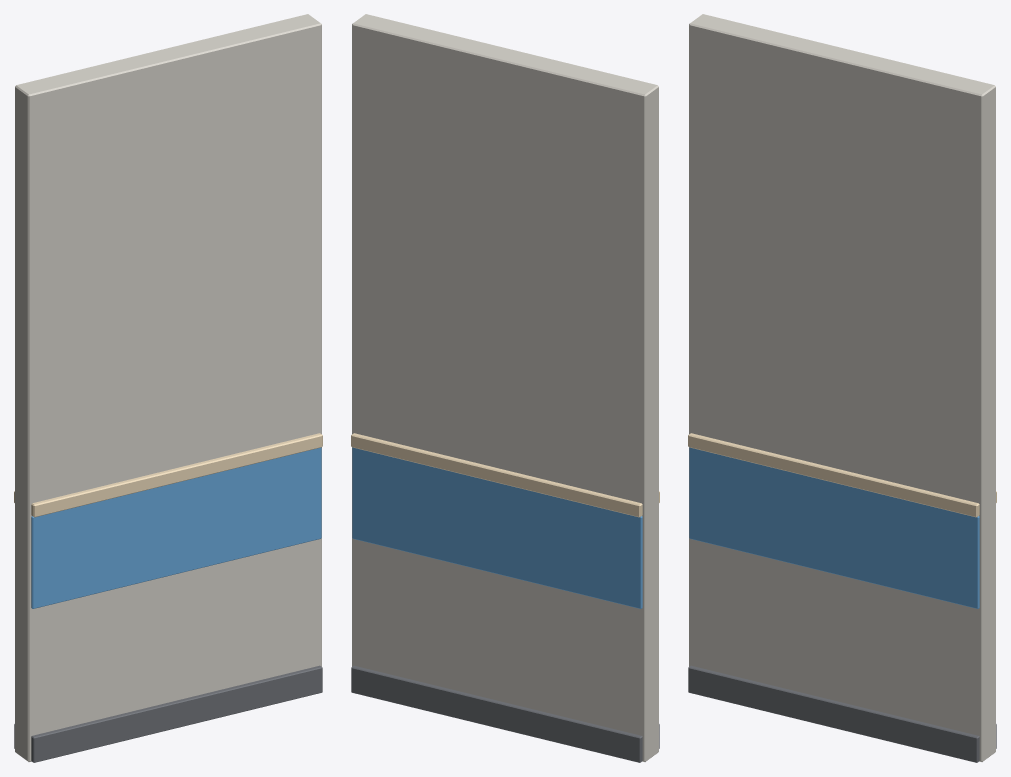
Rendered from nursery-and-primary-classroom-classroom-wall-module-678c00a7__35021.glb.
3 views of the same model, side by side, from view 1: azimuth 30°, elevation 25°; view 2: azimuth 150°, elevation 25°; view 3: azimuth 330°, elevation 25° (orthographic).
Visible parts, largest first — view 1: classroom-wall-module; view 2: classroom-wall-module; view 3: classroom-wall-module.
Part boxes in pixels (box(x1,y1,x2,y2)): classroom-wall-module: box(14, 14, 322, 762); classroom-wall-module: box(351, 14, 659, 762); classroom-wall-module: box(688, 14, 996, 762).
Size of the model in its own units: 1.2 by 2.6 by 0.144.
